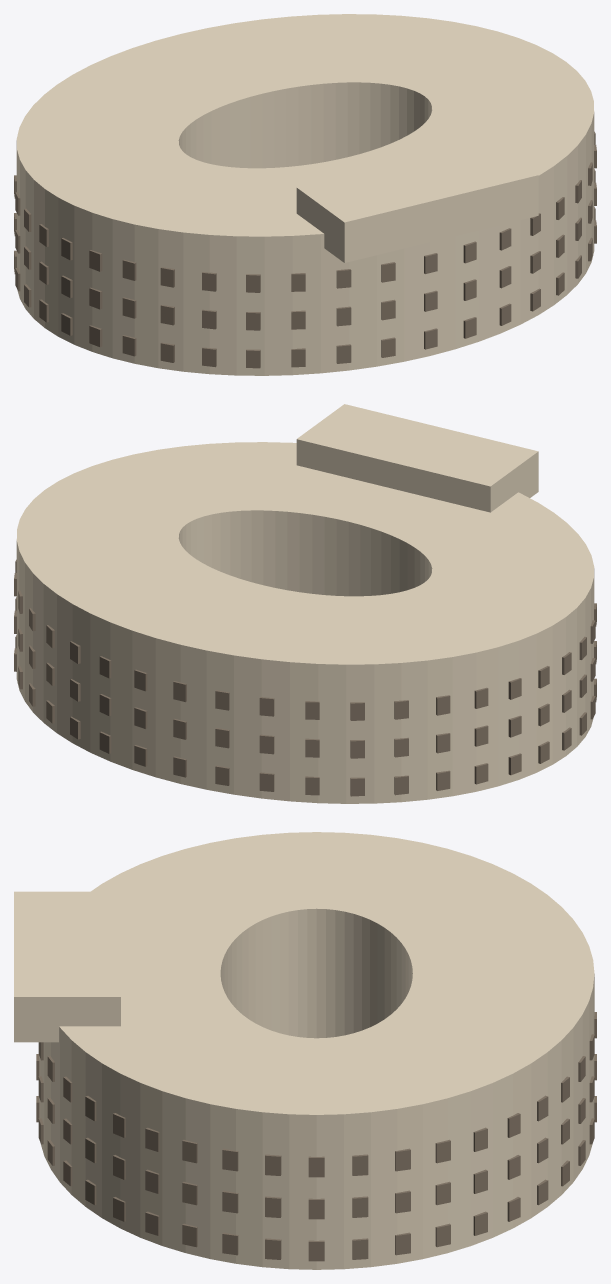
The model's file is colosseum.glb.
3 views of the same model, one above another, from view 1: azimuth 30°, elevation 25°; view 2: azimuth 150°, elevation 25°; view 3: azimuth 270°, elevation 25° (orthographic). The views are drawn at different scales.
Visible parts, largest first — view 1: Cylinder, Cube.120; view 2: Cylinder, Cube.120; view 3: Cylinder, Cube.120.
Part boxes in pixels (left/top/right/bottom): Cylinder: left=16, top=14, right=594, bottom=375; Cube.120: left=296, top=140, right=538, bottom=262; Cylinder: left=16, top=442, right=594, bottom=803; Cube.120: left=296, top=404, right=538, bottom=512; Cylinder: left=39, top=832, right=594, bottom=1269; Cube.120: left=14, top=891, right=120, bottom=1042.
Bounding box in the file's own units: 189 × 57 × 164.
